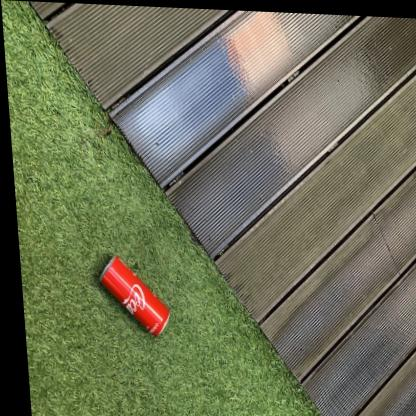Aerosols: (91, 247, 167, 350)
